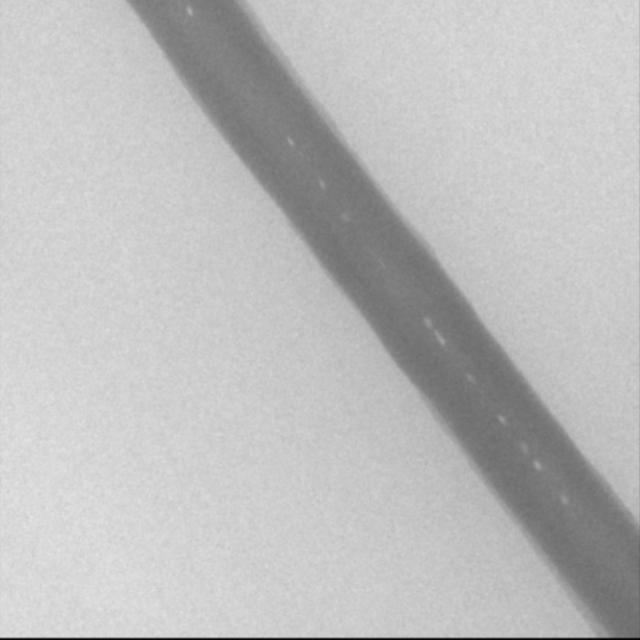air hole: (435, 331, 446, 348), (316, 176, 327, 191), (532, 457, 542, 473), (422, 314, 432, 329), (559, 492, 569, 506), (285, 134, 295, 148), (184, 6, 194, 18)
